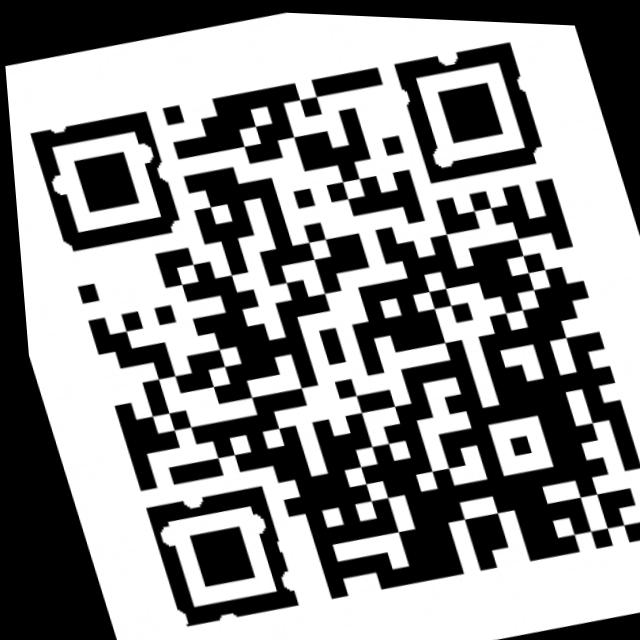QR_CODE: (0, 1, 640, 640)
